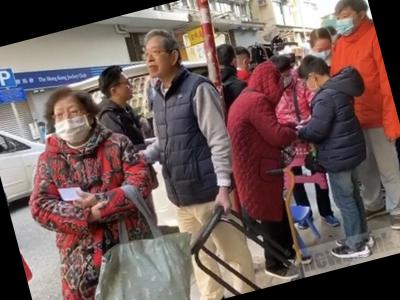with_mask: (49, 99, 94, 148), (333, 8, 361, 36), (314, 41, 338, 63)
without_mask: (140, 40, 174, 79), (114, 76, 139, 107)
